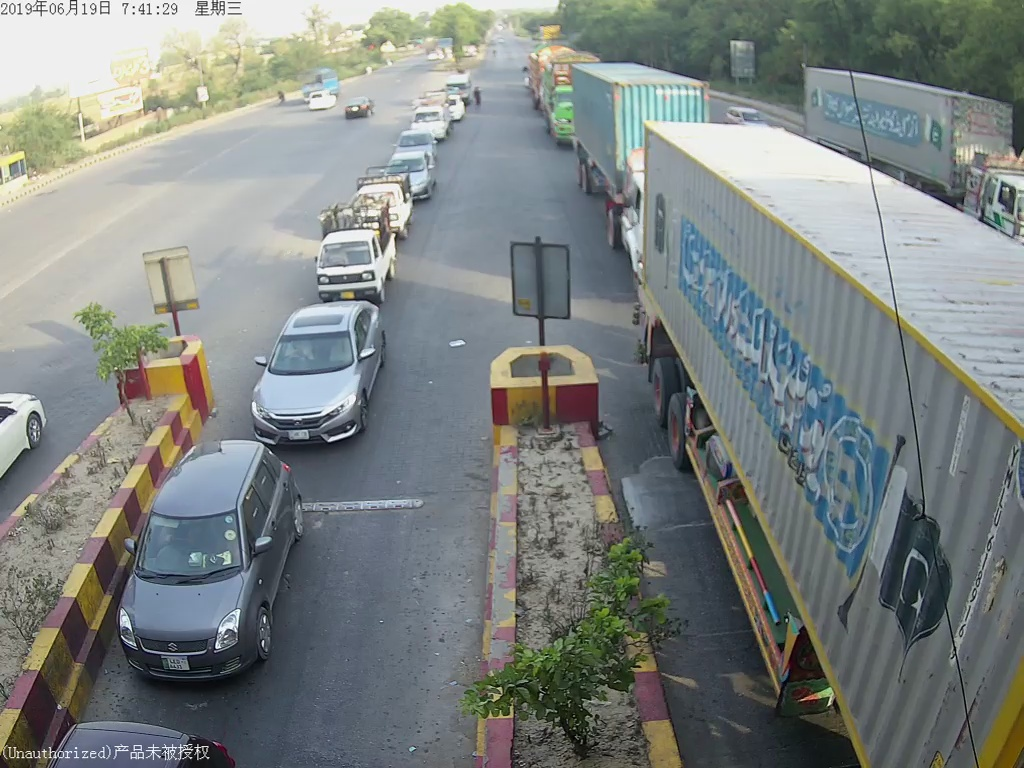Cat-1: (126, 447, 302, 678), (243, 302, 406, 444), (309, 202, 404, 302)
